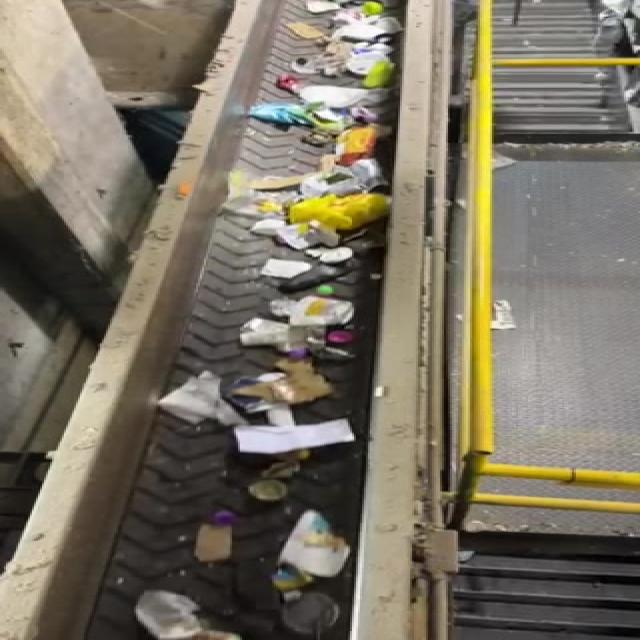paper: (147, 361, 231, 438), (274, 507, 352, 588), (233, 413, 359, 463), (124, 585, 224, 640), (187, 511, 246, 563)
pp: (256, 586, 358, 638), (230, 481, 311, 508)
